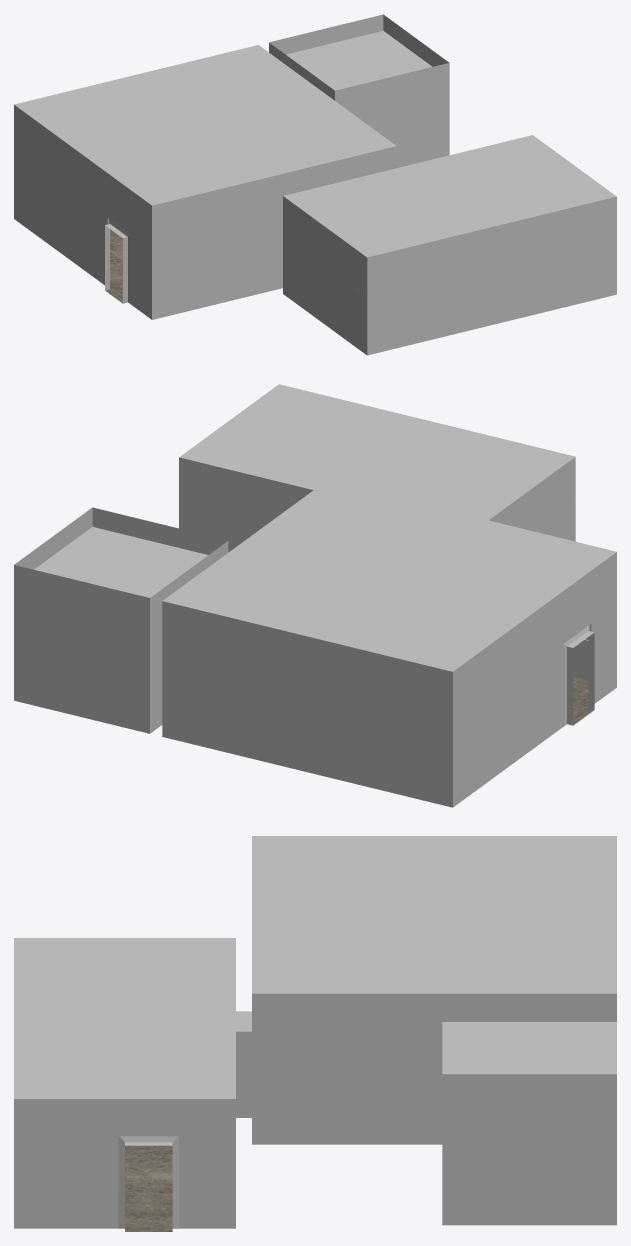
File: Kitchen_3x3.FBX
3 renders of one model, top to bottom at view 1: azimuth 30°, elevation 25°; view 2: azimuth 150°, elevation 25°; view 3: azimuth 270°, elevation 25°, orthographic. The views are drawn at different scales.
Visible parts, largest first — view 1: KitchenA_3x3, KitchenB_3x3, KitchenC_3x3; view 2: KitchenA_3x3, KitchenB_3x3, KitchenC_3x3; view 3: KitchenA_3x3, KitchenB_3x3, KitchenC_3x3.
Part boxes in pixels (x1,y1,x2,y2): KitchenA_3x3: (14, 45, 396, 319); KitchenB_3x3: (283, 135, 616, 355); KitchenC_3x3: (269, 14, 449, 167); KitchenA_3x3: (162, 481, 616, 807); KitchenB_3x3: (179, 384, 575, 552); KitchenC_3x3: (14, 507, 228, 733); KitchenA_3x3: (252, 836, 616, 1144); KitchenB_3x3: (14, 938, 251, 1231); KitchenC_3x3: (442, 1000, 616, 1225).
Size of what is drawn, in the model's own units: 1457 by 413 by 1496.
